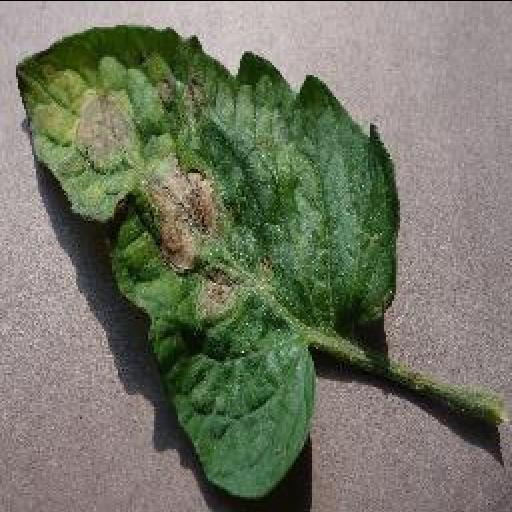disease_tomato: (10, 21, 400, 499)
